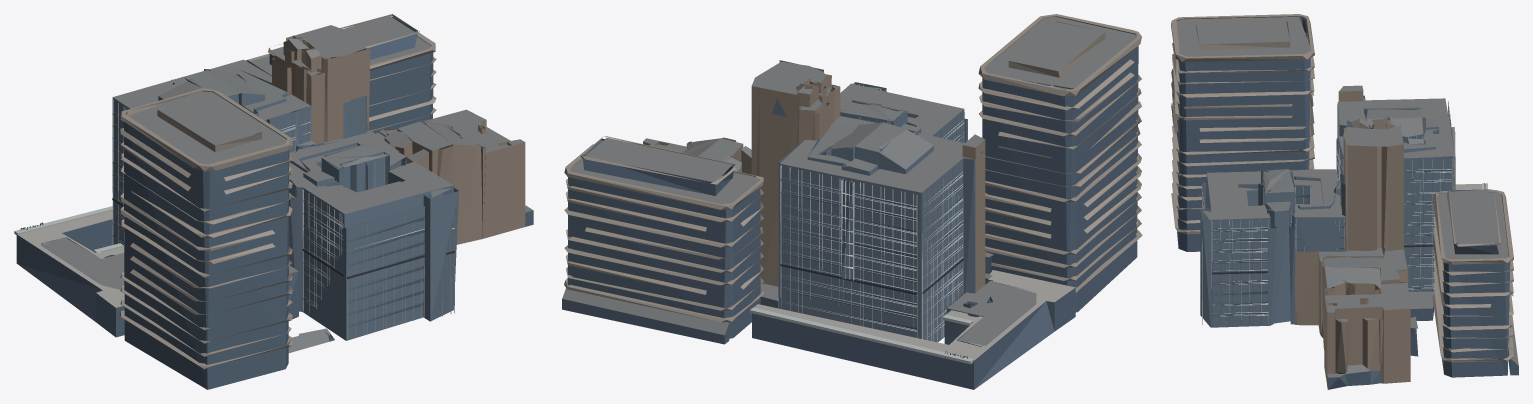
File: atrium-zuidas.lod1.glb
The picture shows the model from 3 angles, left to right: view 1: azimuth 30°, elevation 25°; view 2: azimuth 150°, elevation 25°; view 3: azimuth 270°, elevation 25°; orthographic projection. The views are drawn at different scales.
Visible parts, largest first — view 1: atrium-zuidas; view 2: atrium-zuidas; view 3: atrium-zuidas.
Part boxes in pixels (x1,y1,x2,y2): atrium-zuidas: (14,14,533,389); atrium-zuidas: (562,14,1142,389); atrium-zuidas: (1171,14,1518,389).
Bounding box in the file's own units: 133 × 68.1 × 107.
